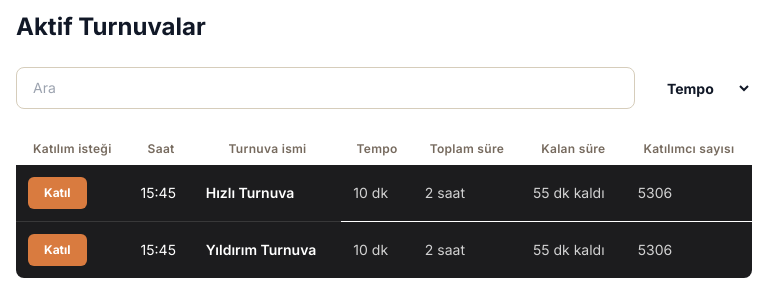
Scenario: Turnuva Lobisi — /play/tournament/lobby › Tempo kutusu filtre görevi görür (madde 3): seçilen tempoya uymayanlar gizlenir
This screenshot has width=769, height=295.
Expected: the text "Hızlı Turnuva" is shown, [194, 165, 341, 222]
Select "Yıldırım" in the dropdown named "Tempo" at (700, 88), box [647, 67, 752, 109]
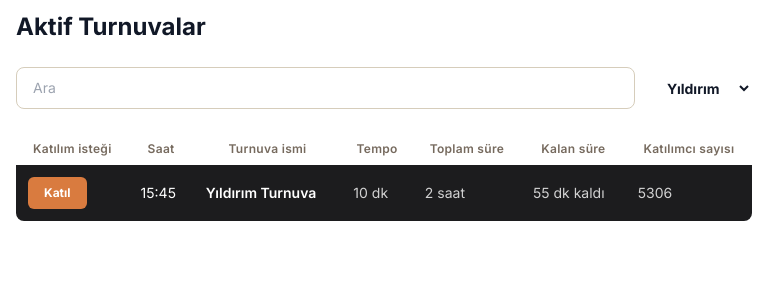
Expected: the text "Yıldırım Turnuva" is shown, [194, 165, 341, 221]
Expected: the text "Hızlı Turnuva" is gone
